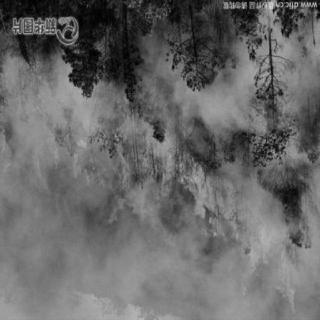Smoke: (154, 57, 302, 173)
